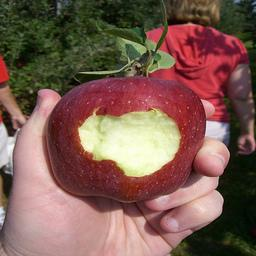apple: (45, 76, 208, 201)
